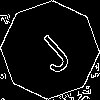J: (25, 25, 75, 76)
